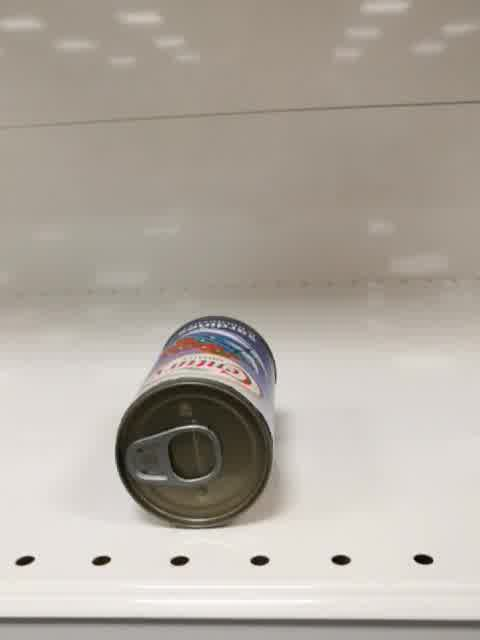sardine: (114, 315, 278, 530)
